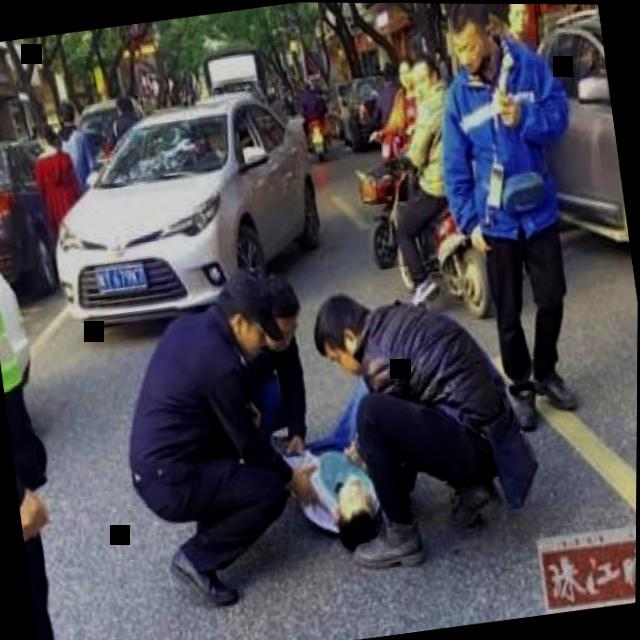Fall-Detected: (249, 362, 417, 564)
